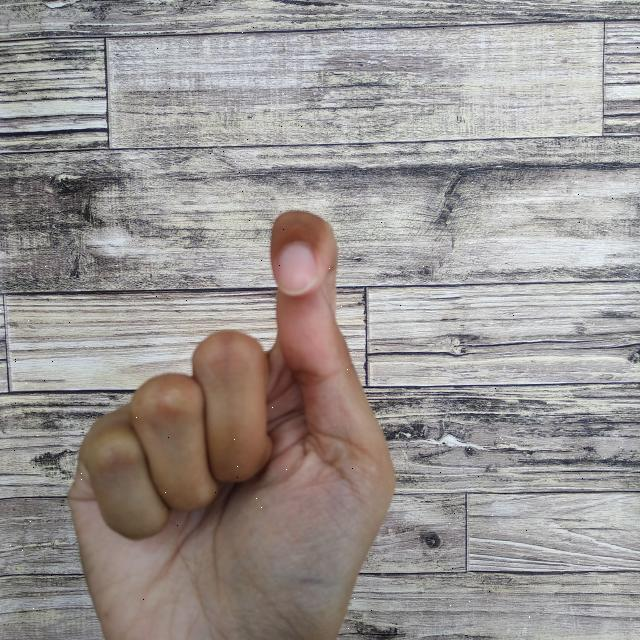T: (59, 207, 403, 640)
